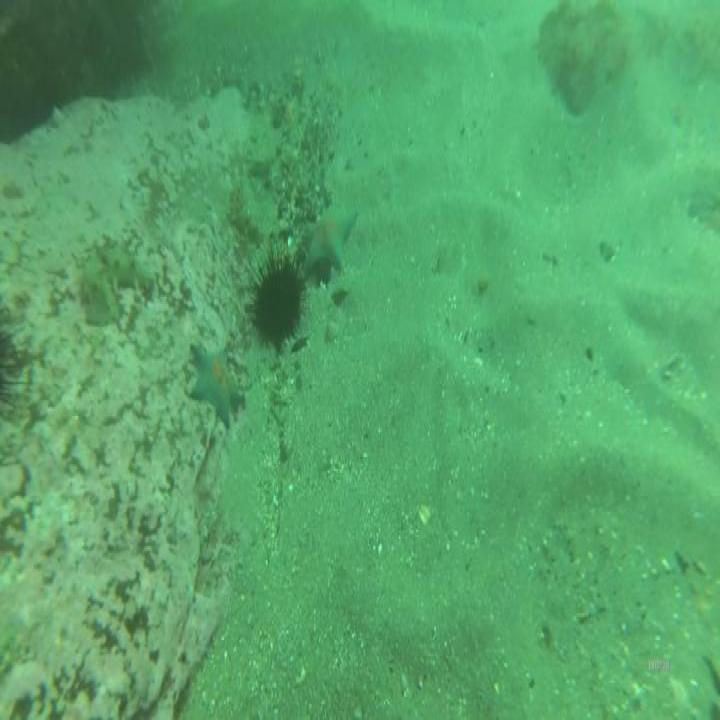echinus: (249, 251, 304, 350)
holothurian: (72, 229, 156, 318)
starfish: (187, 336, 244, 427), (301, 198, 358, 278)
